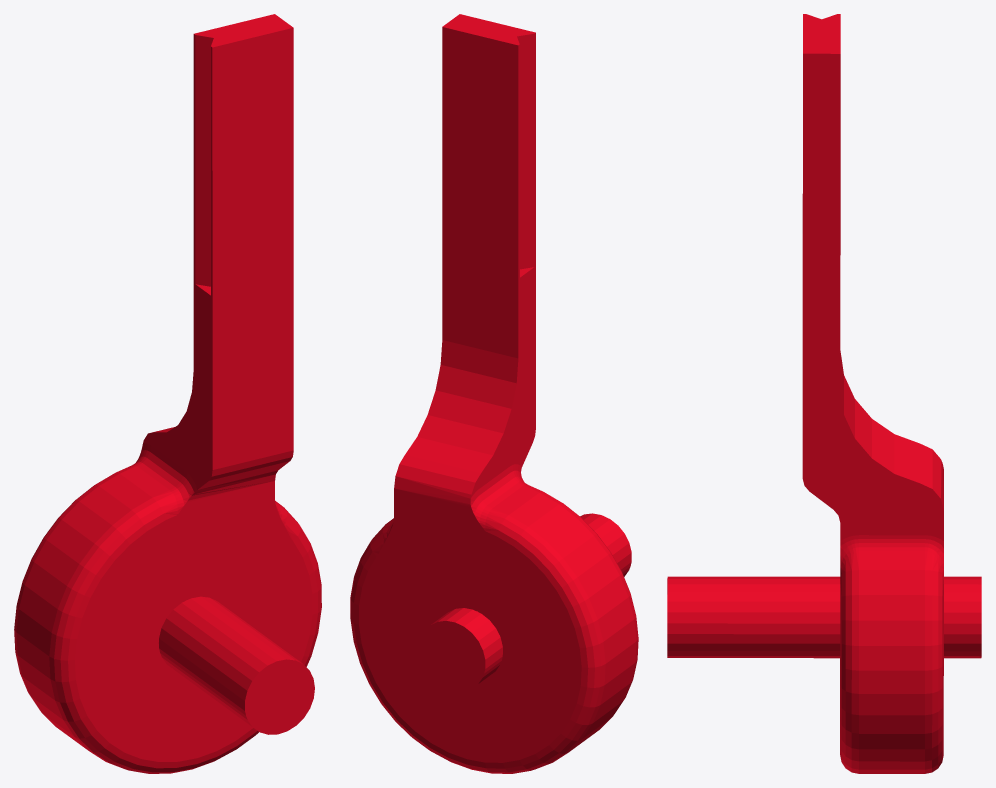
Rendered from tool gripper1 link.OBJ.
3 renders of one model, left to right at view 1: azimuth 30°, elevation 25°; view 2: azimuth 150°, elevation 25°; view 3: azimuth 270°, elevation 25°, orthographic. The views are drawn at different scales.
Visible parts, largest first — view 1: tool_gripper1_link_Tool_Gripper1_Link; view 2: tool_gripper1_link_Tool_Gripper1_Link; view 3: tool_gripper1_link_Tool_Gripper1_Link.
Part boxes in pixels (bbox=[...]): tool_gripper1_link_Tool_Gripper1_Link: bbox=[14, 14, 321, 773]; tool_gripper1_link_Tool_Gripper1_Link: bbox=[350, 14, 638, 773]; tool_gripper1_link_Tool_Gripper1_Link: bbox=[667, 14, 981, 773].
Size of the model in its own units: 0.0499 by 0.131 by 0.05.
